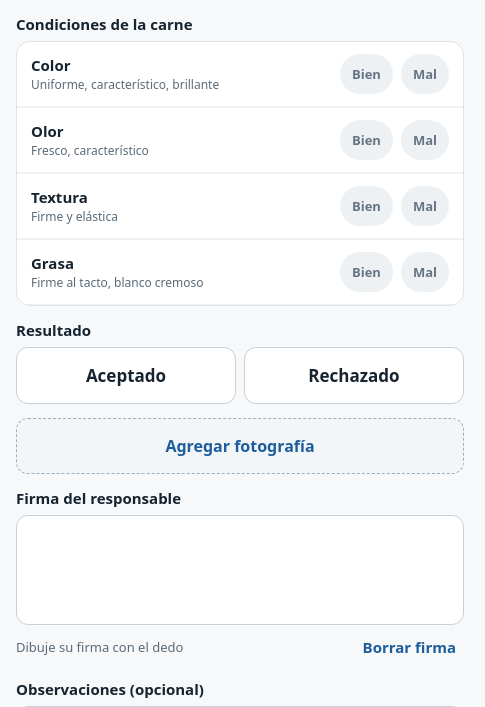
Test: recepción de carne › pide el motivo solo cuando la carne se rechaza
The width and height of the screenshot is (485, 707).
(page scrolled)
Expected: the field labelled "Motivo del rechazo" is not shown
Click the button "Rechazado" at (354, 376), box [244,347,464,404]
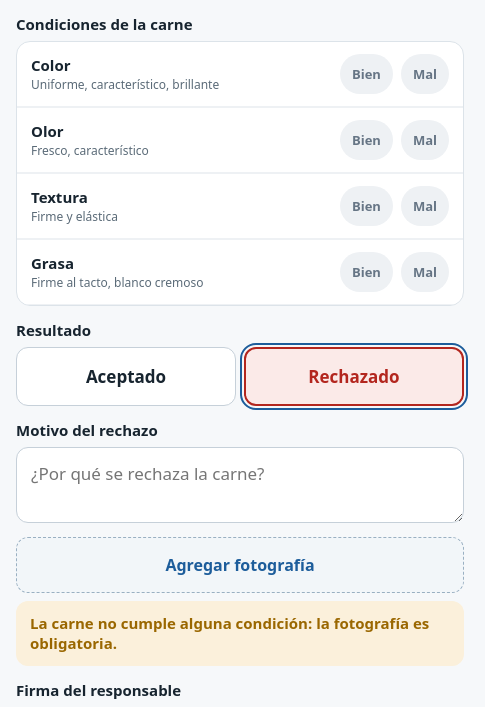
Now the text box labelled "Motivo del rechazo" is shown, box [16,447,464,523]
